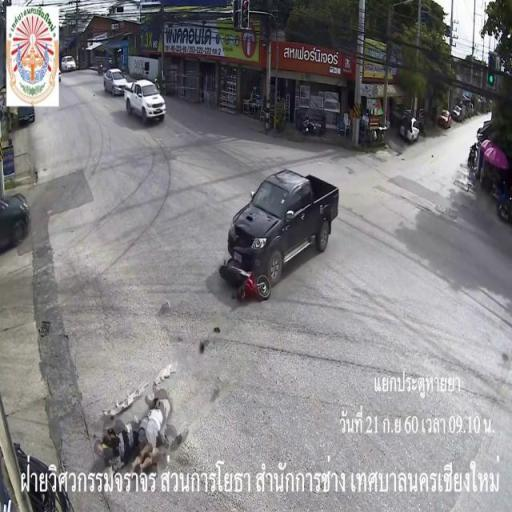Car: (229, 162, 344, 281), (124, 82, 165, 122), (102, 69, 128, 95), (59, 57, 76, 72)
Minor Accident: (197, 149, 344, 309)
Motor: (205, 240, 275, 308)
Not Accident: (102, 68, 168, 125)
